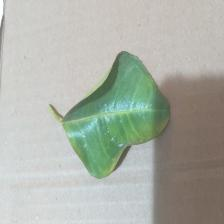greening: (47, 48, 171, 182)
